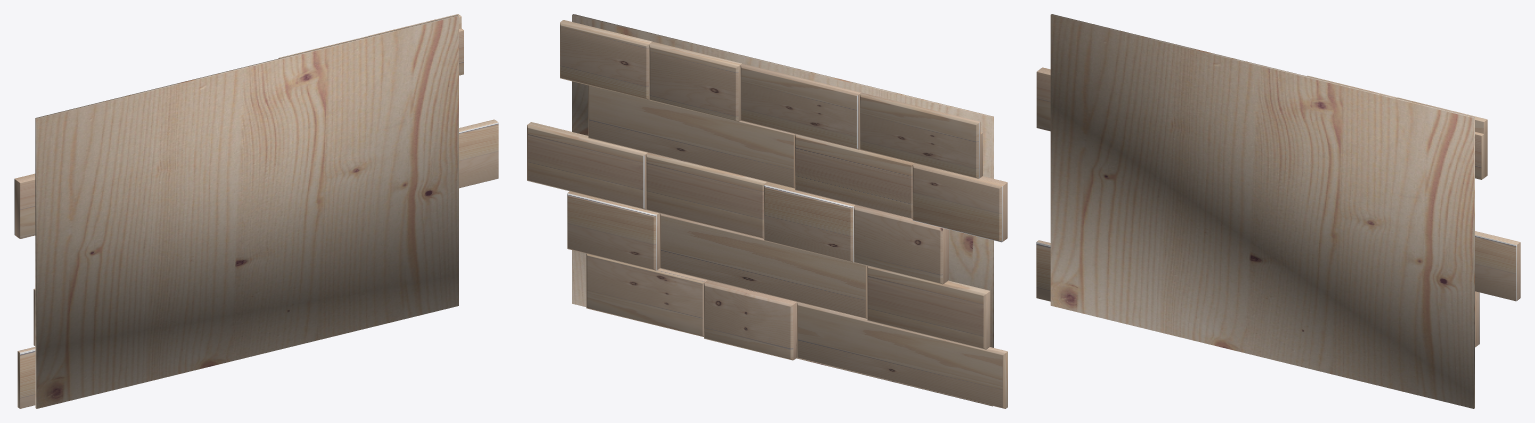
The model's file is paredhachastexturizado.obj.
The picture shows the model from 3 angles, left to right: view 1: azimuth 30°, elevation 25°; view 2: azimuth 150°, elevation 25°; view 3: azimuth 330°, elevation 25°; orthographic projection.
Visible parts, largest first — view 1: Box085, Box071, Box083, Box072; view 2: Box072, Box086, Box081, Box085, Box076, Box071, Box077, Box080, Box079, Box075, Box074, Box083 (+6 smaller); view 3: Box085, Box071, Box082, Box083, Box072.
Boxes of the visible parts, bbox=[...] form: Box085: bbox=[35, 15, 458, 408]; Box071: bbox=[459, 119, 498, 188]; Box083: bbox=[14, 173, 35, 238]; Box072: bbox=[17, 347, 35, 408]; Box072: bbox=[797, 302, 1007, 408]; Box086: bbox=[660, 213, 867, 318]; Box081: bbox=[588, 85, 794, 188]; Box085: bbox=[572, 14, 993, 406]; Box076: bbox=[860, 92, 982, 178]; Box071: bbox=[527, 122, 647, 209]; Box077: bbox=[867, 266, 990, 349]; Box080: bbox=[740, 63, 860, 149]; Box079: bbox=[646, 153, 767, 238]; Box075: bbox=[795, 134, 914, 218]; Box074: bbox=[586, 253, 707, 336]; Box083: bbox=[912, 163, 1007, 242]; Box085: bbox=[1050, 14, 1474, 408]; Box071: bbox=[1475, 231, 1520, 301]; Box082: bbox=[1397, 97, 1487, 179]; Box083: bbox=[1036, 67, 1050, 131]; Box072: bbox=[1036, 240, 1050, 301].
Size of the model in its own units: 8.01 by 4.63 by 0.2371.
